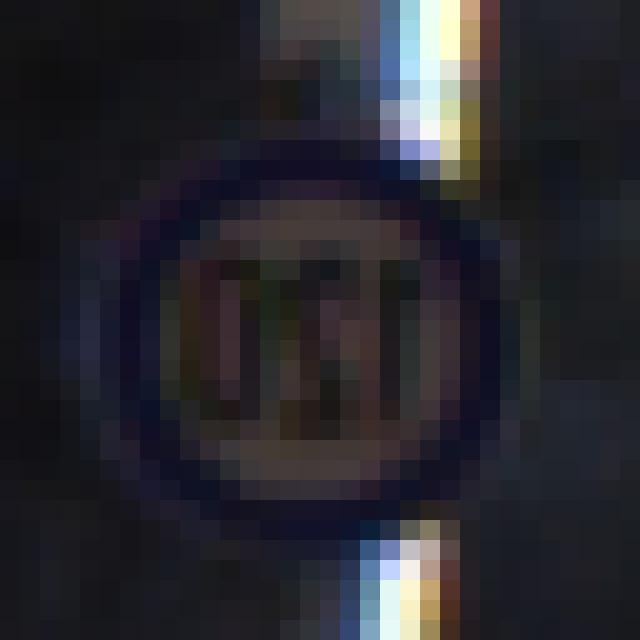SPEED LIMIT 120: (66, 145, 540, 555)
